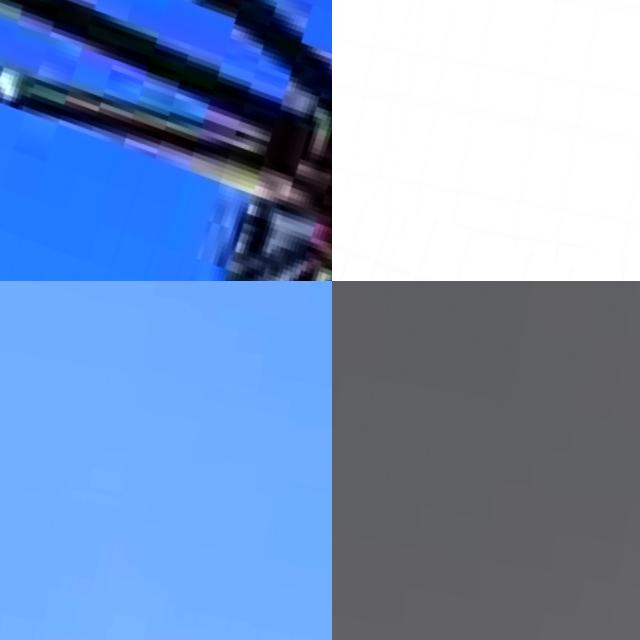0: (0, 0, 332, 281)
drone: (332, 181, 640, 281)
